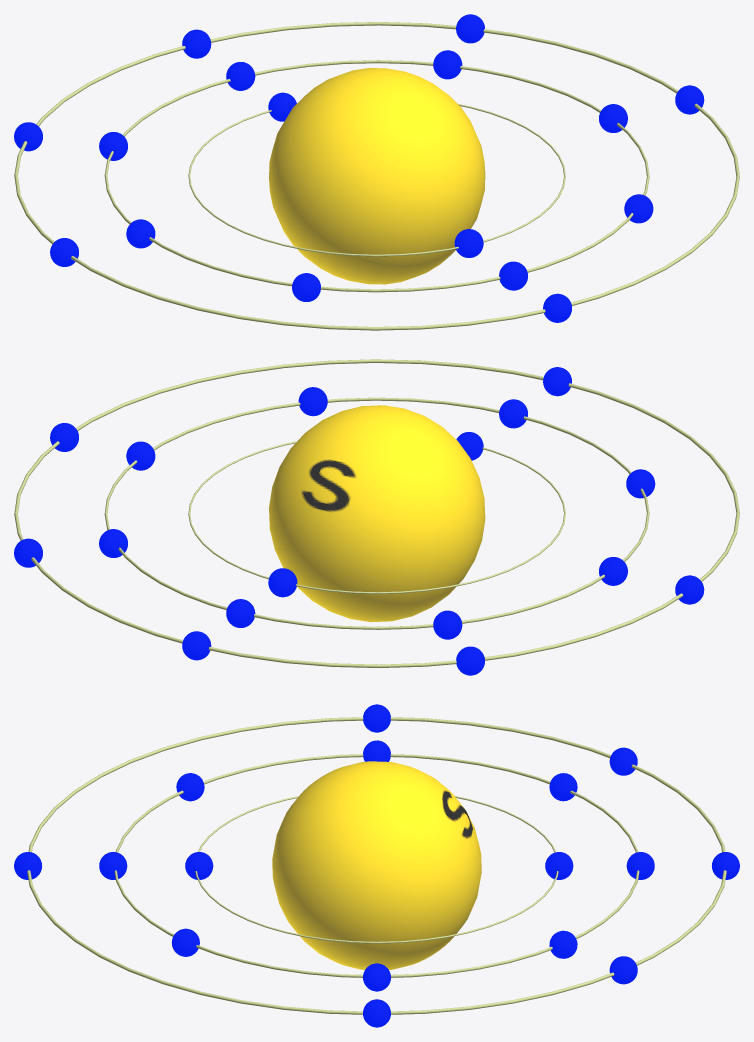
3 renders of one model, top to bottom at view 1: azimuth 30°, elevation 25°; view 2: azimuth 150°, elevation 25°; view 3: azimuth 270°, elevation 25°, orthographic. The views are drawn at different scales.
Parts seen in each view (by area): view 1: 球体, 贝塞尔圆环.002, 贝塞尔圆环.001, 贝塞尔圆环, 球体.016, 球体.009, 球体.002, 球体.004, 球体.003, 球体.008, 球体.006, 球体.012 (+8 smaller); view 2: 球体, 贝塞尔圆环.002, 贝塞尔圆环.001, 贝塞尔圆环, 球体.015, 球体.001, 球体.005, 球体.010, 球体.007, 球体.003, 球体.009, 球体.012 (+8 smaller); view 3: 球体, 贝塞尔圆环.002, 贝塞尔圆环.001, 贝塞尔圆环, 球体.011, 球体.013, 球体.014, 球体.010, 球体.002, 球体.016, 球体.008, 球体.005 (+7 smaller).
Boxes of the visible parts, x1=… form: 球体: x1=269, y1=68, x2=485, y2=284; 贝塞尔圆环.002: x1=14, y1=22, x2=739, y2=330; 贝塞尔圆环.001: x1=104, y1=60, x2=649, y2=292; 贝塞尔圆环: x1=188, y1=104, x2=565, y2=256; 球体.016: x1=456, y1=14, x2=484, y2=43; 球体.009: x1=499, y1=261, x2=527, y2=290; 球体.002: x1=433, y1=50, x2=462, y2=79; 球体.004: x1=454, y1=229, x2=483, y2=257; 球体.003: x1=182, y1=29, x2=211, y2=58; 球体.008: x1=292, y1=273, x2=320, y2=301; 球体.006: x1=126, y1=219, x2=155, y2=248; 球体.012: x1=543, y1=293, x2=571, y2=322; 球体: x1=269, y1=405, x2=485, y2=622; 贝塞尔圆环.002: x1=14, y1=359, x2=739, y2=667; 贝塞尔圆环.001: x1=104, y1=397, x2=649, y2=629; 贝塞尔圆环: x1=188, y1=441, x2=565, y2=593; 球体.015: x1=456, y1=646, x2=484, y2=675; 球体.001: x1=268, y1=568, x2=297, y2=597; 球体.005: x1=433, y1=610, x2=462, y2=639; 球体.010: x1=298, y1=387, x2=327, y2=416; 球体.007: x1=226, y1=599, x2=255, y2=627; 球体.003: x1=182, y1=631, x2=211, y2=660; 球体.009: x1=499, y1=399, x2=527, y2=428; 球体.012: x1=543, y1=367, x2=571, y2=396; 球体: x1=272, y1=761, x2=481, y2=969; 贝塞尔圆环.002: x1=27, y1=717, x2=726, y2=1014; 贝塞尔圆环.001: x1=114, y1=754, x2=639, y2=977; 贝塞尔圆环: x1=195, y1=796, x2=558, y2=943; 球体.011: x1=363, y1=963, x2=390, y2=991; 球体.013: x1=363, y1=704, x2=390, y2=732; 球体.014: x1=363, y1=999, x2=390, y2=1027; 球体.010: x1=171, y1=928, x2=199, y2=956; 球体.002: x1=549, y1=930, x2=577, y2=958; 球体.016: x1=609, y1=956, x2=637, y2=984; 球体.008: x1=176, y1=773, x2=204, y2=801; 球体.005: x1=549, y1=773, x2=577, y2=801.
Size of the model in its own units: 2.42 by 0.6996 by 2.42.
8 materials, 1 textured.
